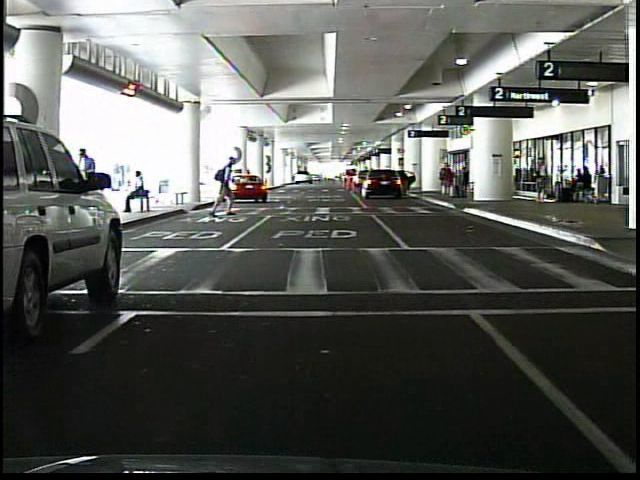person: (205, 157, 241, 219), (79, 147, 107, 216), (126, 167, 151, 215), (536, 154, 551, 201), (438, 161, 456, 199), (461, 164, 462, 198)
